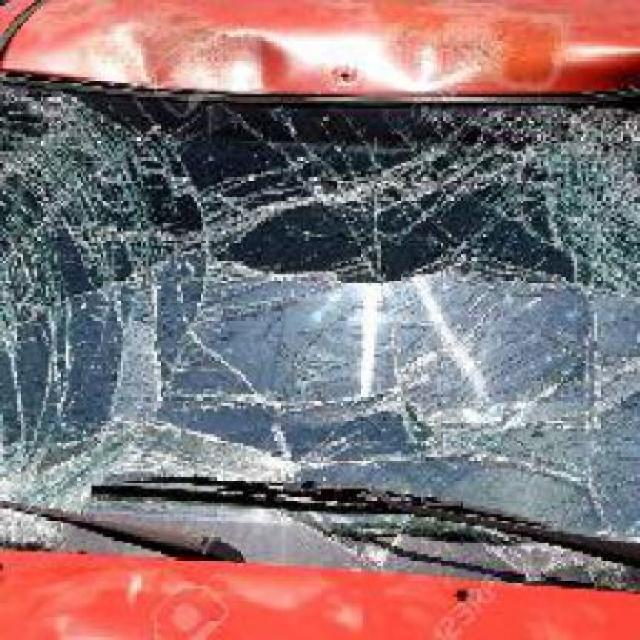damaged-windscreen: (2, 71, 638, 604)
